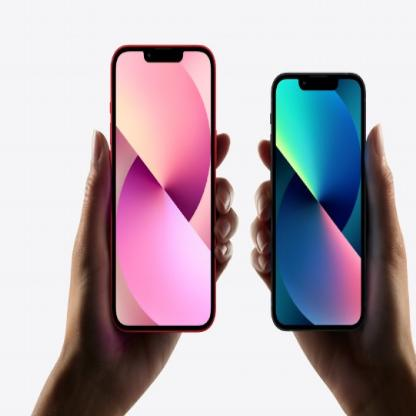SMARTPHONE: (103, 36, 233, 345), (266, 66, 386, 345)
